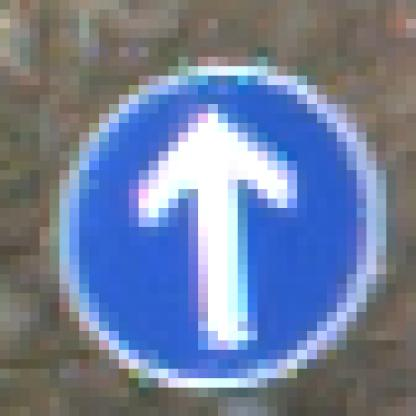AheadOnly: (61, 58, 368, 370)
